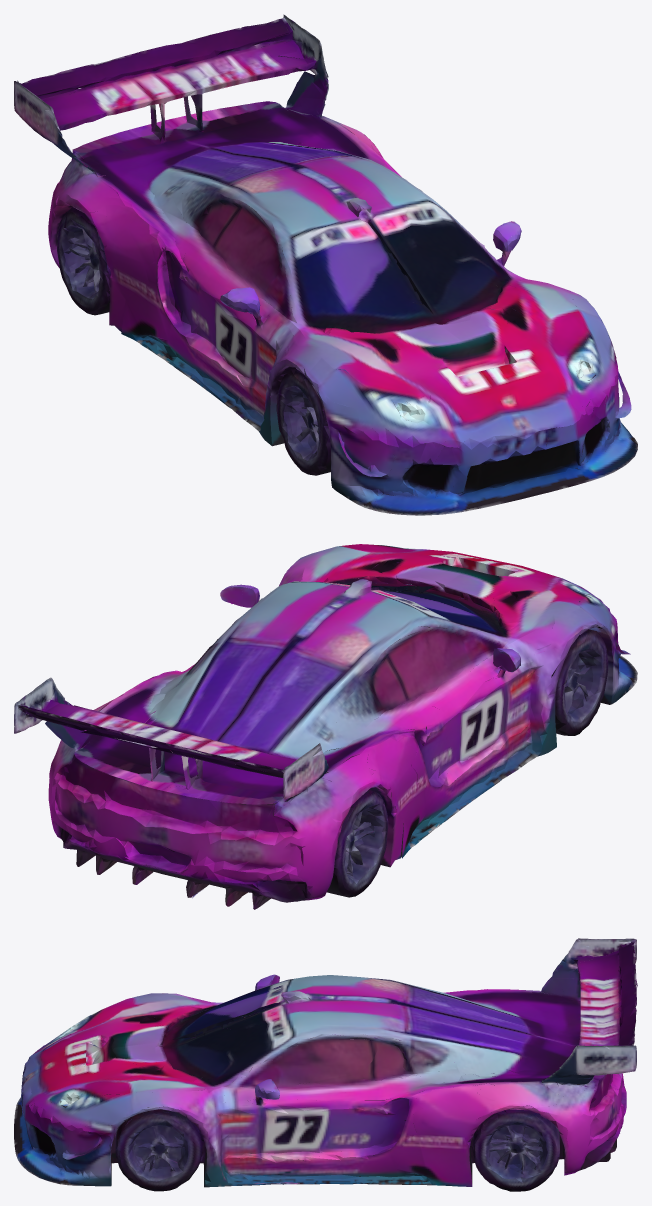
The picture shows the model from 3 angles, top to bottom: view 1: azimuth 30°, elevation 25°; view 2: azimuth 150°, elevation 25°; view 3: azimuth 270°, elevation 25°; orthographic projection. The views are drawn at different scales.
Visible parts, largest first — view 1: body, wheel_front_L, wheel_rear_L, wheel_front_R; view 2: body, wheel_rear_L, wheel_front_L, wheel_rear_R; view 3: body, wheel_front_R, wheel_rear_R.
Boxes of the visible parts, x1,y1,x2,y2 form: body: (14,14,637,515); wheel_front_L: (170,251,467,515); wheel_rear_L: (48,159,213,395); wheel_front_R: (490,281,631,464); body: (14,544,637,906); wheel_rear_L: (199,765,482,909); wheel_front_L: (414,601,637,798); wheel_rear_R: (48,740,140,866); body: (14,938,637,1186); wheel_front_R: (27,1095,389,1191); wheel_rear_R: (231,1079,621,1191).
Size of the model in its own units: 1.79 by 1.03 by 4.01.
1 material, 1 textured.
